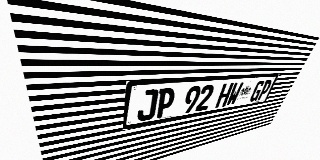2: (195, 84, 215, 111)
9: (181, 85, 202, 114)
G: (248, 80, 266, 102)
H: (215, 83, 234, 108)
J: (136, 89, 159, 122)
P: (154, 87, 176, 119), (256, 80, 273, 101)
W: (225, 82, 244, 106)
